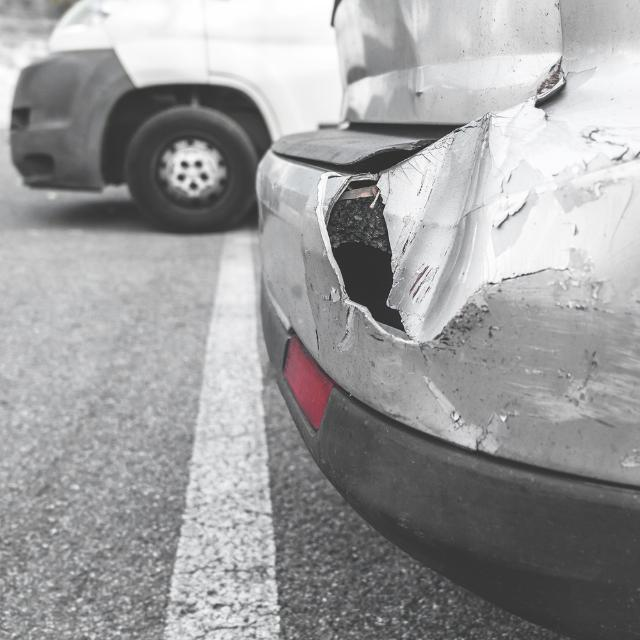crack: (326, 173, 413, 341)
dent: (397, 113, 490, 338)
scratch: (436, 116, 640, 438)
